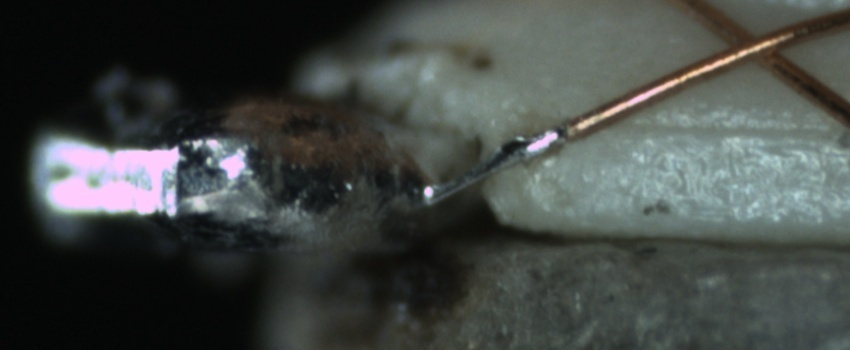CL: (703, 12, 808, 78)
DL: (607, 97, 845, 165)
TS: (408, 126, 566, 210)
TTCW: (408, 102, 606, 212)
